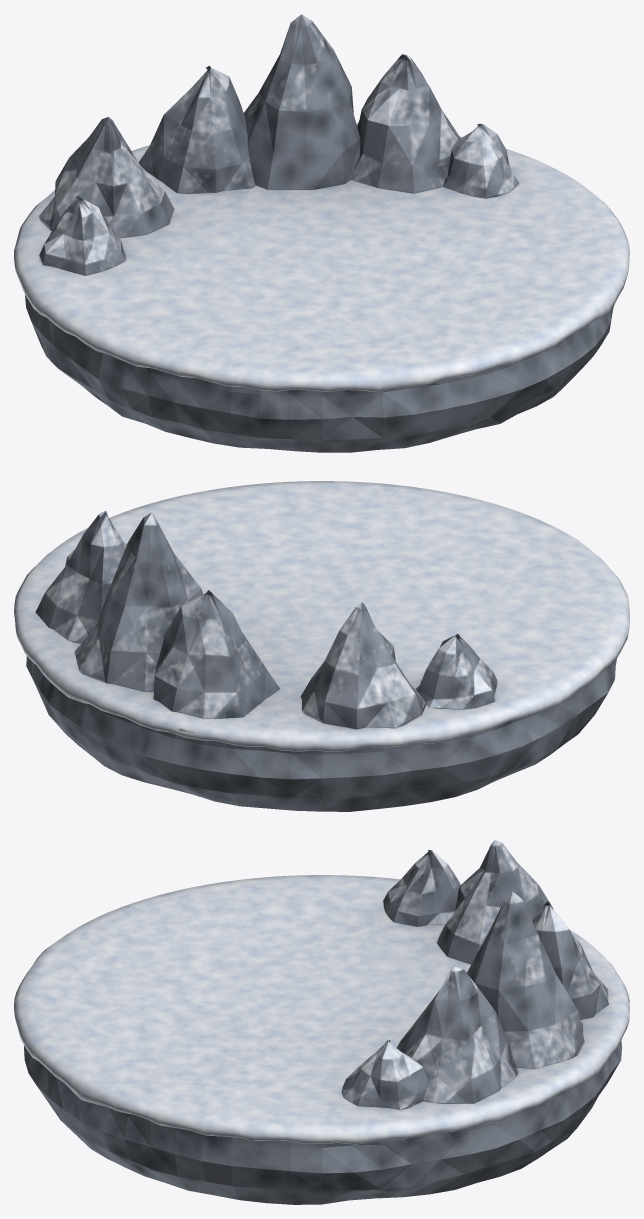
File: FrostKeep_Island.fbx
3 views of the same model, one above another, from view 1: azimuth 30°, elevation 25°; view 2: azimuth 150°, elevation 25°; view 3: azimuth 270°, elevation 25° (orthographic).
Parts seen in each view (by area): view 1: Island_Snow, Crags, Island_Body; view 2: Island_Snow, Crags, Island_Body; view 3: Island_Snow, Crags, Island_Body.
Part boxes in pixels (bbox=[...]): Island_Snow: bbox=[14, 123, 629, 392]; Crags: bbox=[39, 14, 518, 275]; Island_Body: bbox=[25, 295, 613, 452]; Island_Snow: bbox=[14, 481, 629, 752]; Crags: bbox=[35, 510, 496, 729]; Island_Body: bbox=[26, 656, 616, 811]; Island_Snow: bbox=[14, 875, 629, 1144]; Crags: bbox=[341, 840, 608, 1109]; Island_Body: bbox=[24, 1041, 622, 1204].
Size of the model in its own units: 20.64 by 9.86 by 20.68.
Materials: 1 (1 with a texture image).
